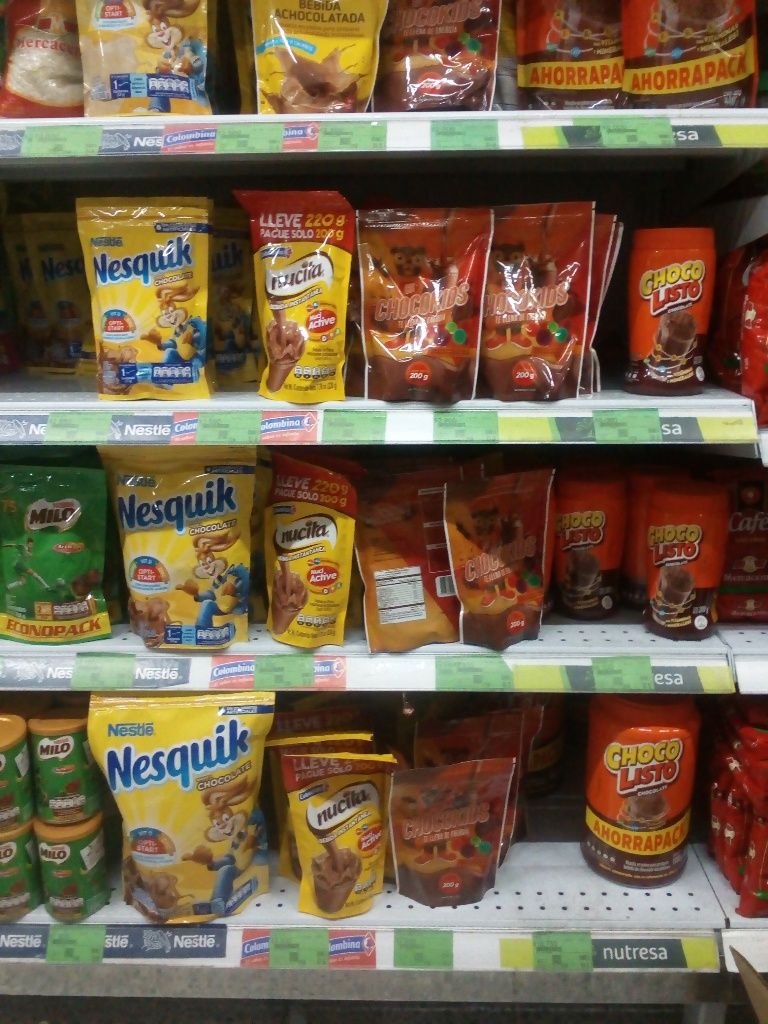COL0170103TRR00100: (584, 690, 696, 889)
COL0170203LAT20000: (24, 714, 99, 824)
